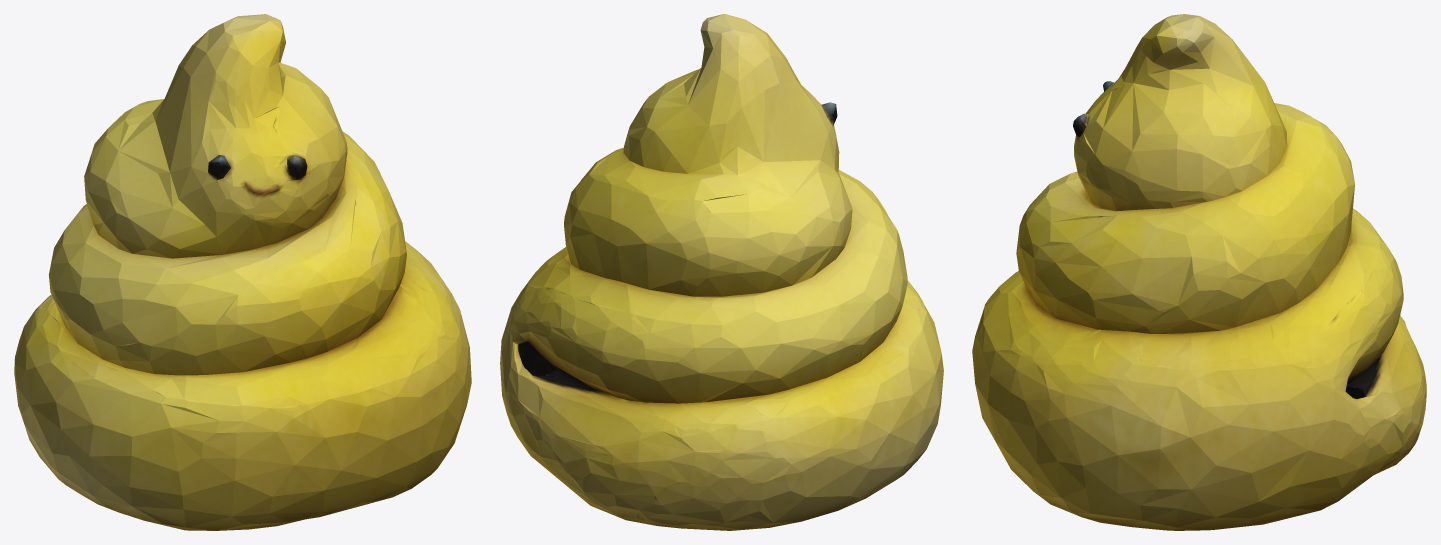
File: poop.glb
3 renders of one model, left to right at view 1: azimuth 30°, elevation 25°; view 2: azimuth 150°, elevation 25°; view 3: azimuth 270°, elevation 25°, orthographic. The views are drawn at different scales.
Visible parts, largest first — view 1: geometry_0; view 2: geometry_0; view 3: geometry_0.
Boxes of the visible parts, box(x1,y1,x2,y2) form: geometry_0: box(14, 14, 471, 530); geometry_0: box(500, 14, 943, 530); geometry_0: box(972, 14, 1426, 530).
Bounding box in the file's own units: 0.0674 × 0.0728 × 0.0681.
1 material, 1 textured.
